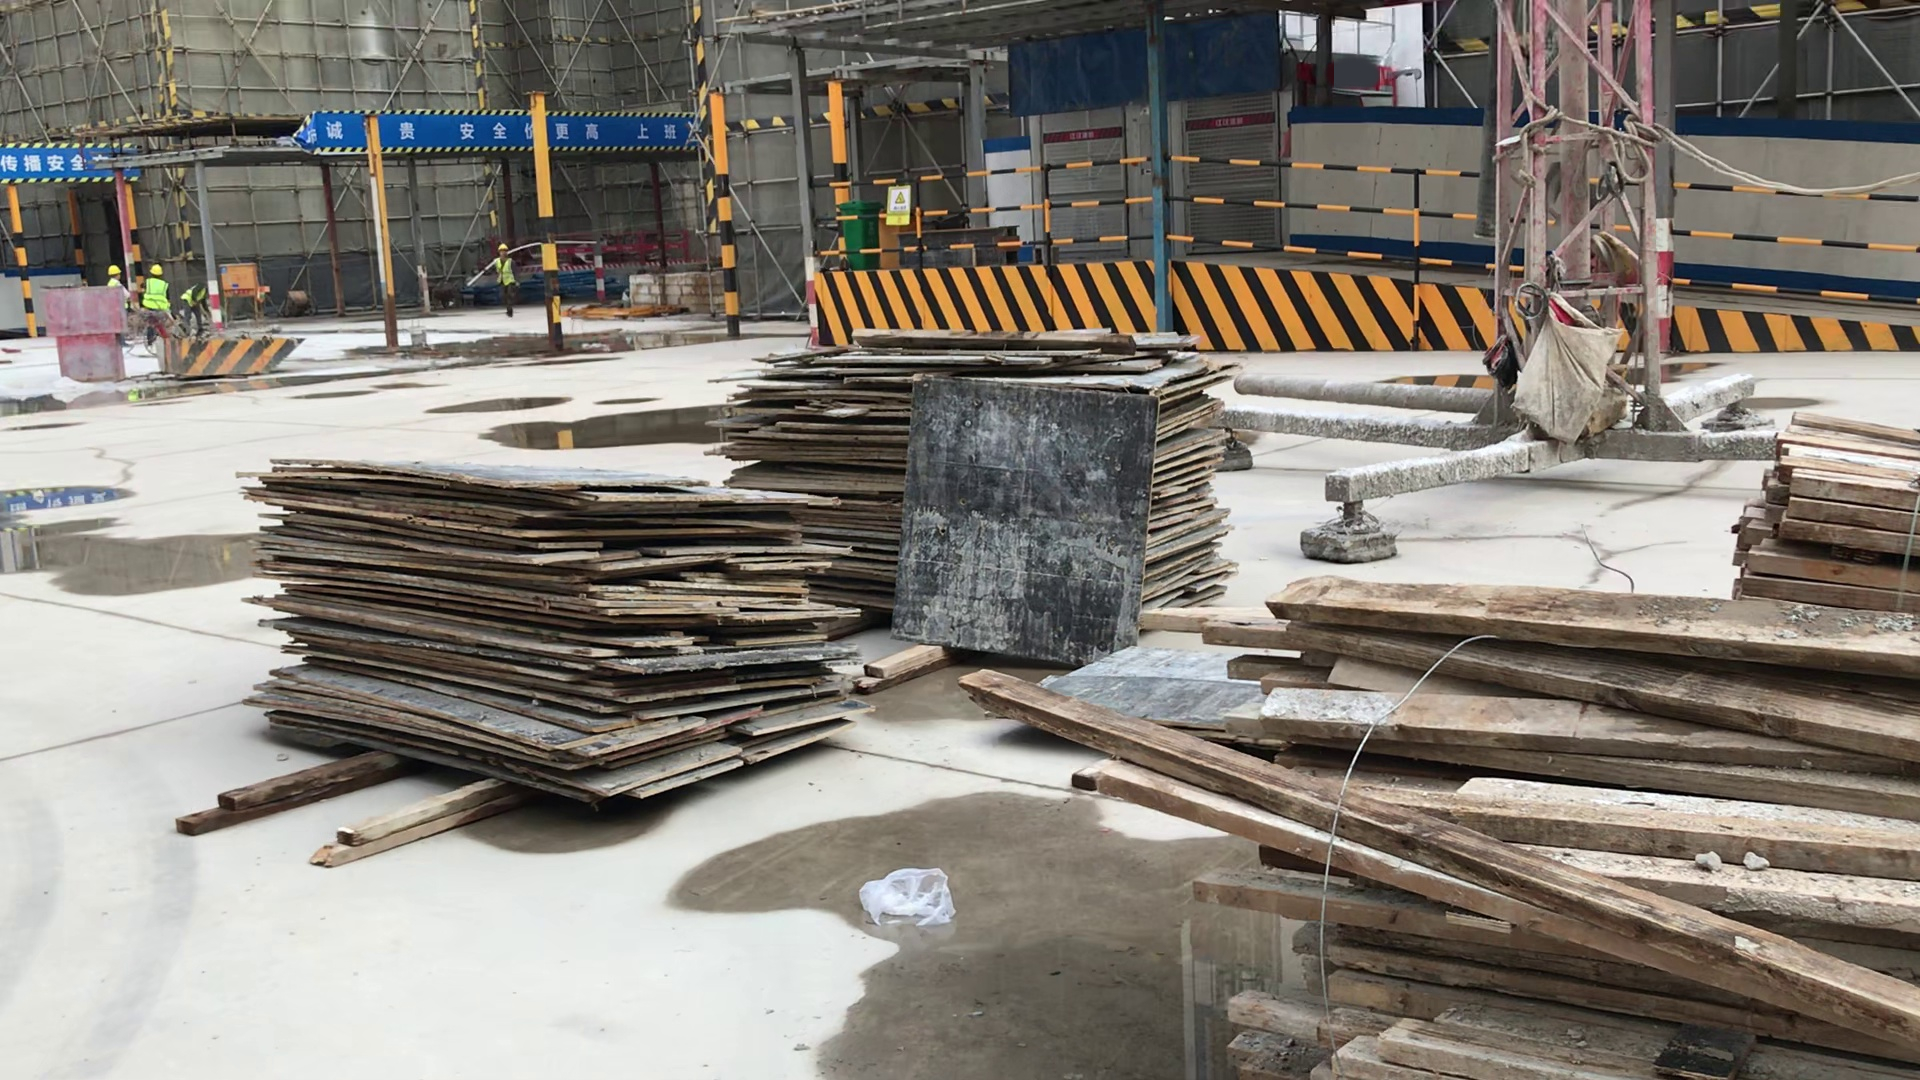board: (237, 450, 882, 809), (704, 323, 1243, 675)
ebox: (218, 262, 266, 327)
fence: (1173, 150, 1474, 279), (828, 149, 1153, 262), (1675, 188, 1914, 312)
helmet: (149, 264, 163, 275), (107, 266, 121, 275), (497, 244, 510, 251)
hopper: (163, 331, 304, 379)
person: (141, 264, 171, 350), (495, 243, 520, 320), (178, 279, 207, 333), (104, 265, 122, 287)
slogan: (324, 113, 686, 150), (1, 140, 86, 177), (604, 231, 660, 266), (556, 234, 591, 270), (667, 227, 691, 263), (889, 187, 909, 225), (1211, 115, 1245, 129), (1067, 131, 1098, 143)
vest: (143, 278, 171, 312), (181, 282, 206, 308), (496, 258, 516, 287)
wood: (1219, 569, 1920, 1079), (1723, 408, 1920, 597)
